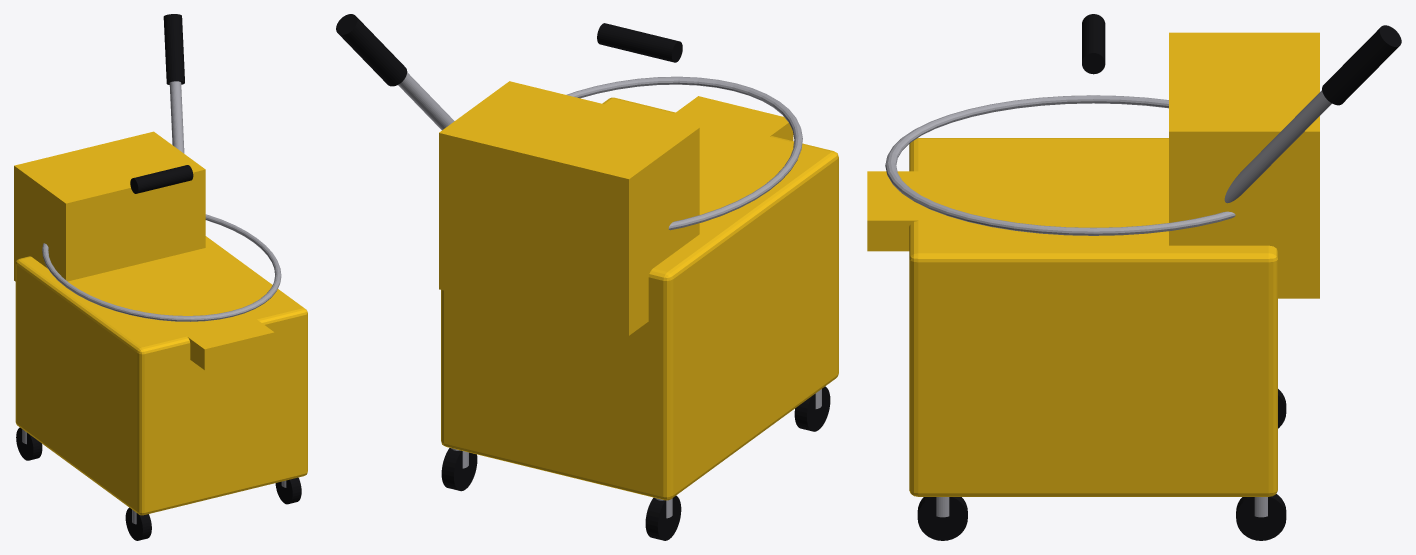
File: Mop_Bucket.obj
3 views of the same model, side by side, from view 1: azimuth 30°, elevation 25°; view 2: azimuth 150°, elevation 25°; view 3: azimuth 270°, elevation 25° (orthographic). The views are drawn at different scales.
Visible parts, largest first — view 1: Cube, Cube.002, Cube.001, Torus, Cylinder.010, Cylinder.008, Cylinder.009, Cylinder.001, Cylinder.003, Cylinder.005; view 2: Cube, Cube.002, Torus, Cube.001, Cylinder.010, Cylinder.008, Cylinder.003, Cylinder.007, Cylinder.009, Cylinder.001; view 3: Cube, Cube.002, Torus, Cube.001, Cylinder.010, Cylinder.009, Cylinder.005, Cylinder.007, Cylinder.008.
Boxes of the visible parts, left/top/right/bottom form: Cube: left=15, top=236, right=307, bottom=515; Cube.002: left=14, top=131, right=205, bottom=281; Cube.001: left=182, top=319, right=274, bottom=370; Torus: left=42, top=214, right=281, bottom=321; Cylinder.010: left=163, top=14, right=184, bottom=84; Cylinder.008: left=130, top=165, right=193, bottom=193; Cylinder.009: left=169, top=81, right=184, bottom=153; Cylinder.001: left=125, top=507, right=151, bottom=540; Cylinder.003: left=16, top=427, right=42, bottom=460; Cylinder.005: left=275, top=477, right=301, bottom=504; Cube: left=441, top=97, right=838, bottom=500; Cube.002: left=439, top=81, right=699, bottom=335; Torus: left=566, top=76, right=802, bottom=230; Cube.001: left=673, top=96, right=793, bottom=141; Cylinder.010: left=336, top=14, right=407, bottom=86; Cylinder.008: left=597, top=23, right=682, bottom=62; Cylinder.003: left=645, top=495, right=681, bottom=540; Cylinder.007: left=441, top=448, right=477, bottom=491; Cylinder.009: left=398, top=72, right=454, bottom=130; Cylinder.001: left=794, top=386, right=830, bottom=431; Cube: left=909, top=138, right=1277, bottom=496; Cube.002: left=1169, top=32, right=1319, bottom=298; Torus: left=885, top=95, right=1235, bottom=235; Cube.001: left=867, top=171, right=934, bottom=251; Cylinder.010: left=1322, top=25, right=1401, bottom=105; Cylinder.009: left=1224, top=90, right=1331, bottom=203; Cylinder.005: left=917, top=497, right=967, bottom=540; Cylinder.007: left=1236, top=494, right=1286, bottom=540; Cylinder.008: left=1082, top=14, right=1105, bottom=74.
Size of the model in its own units: 0.4343 by 0.7064 by 0.6375.
